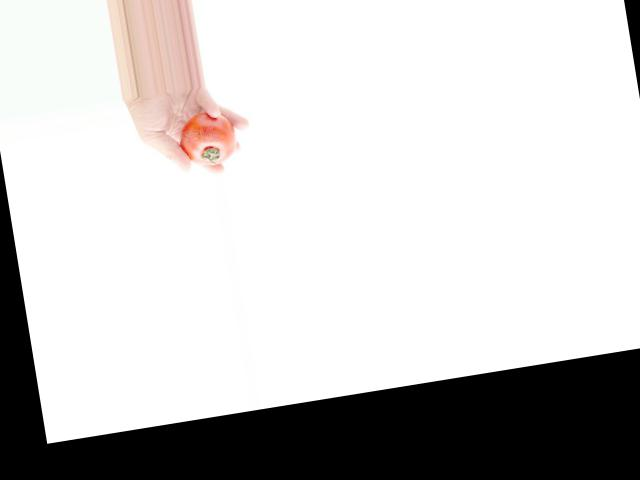tomato: (176, 108, 240, 169)
